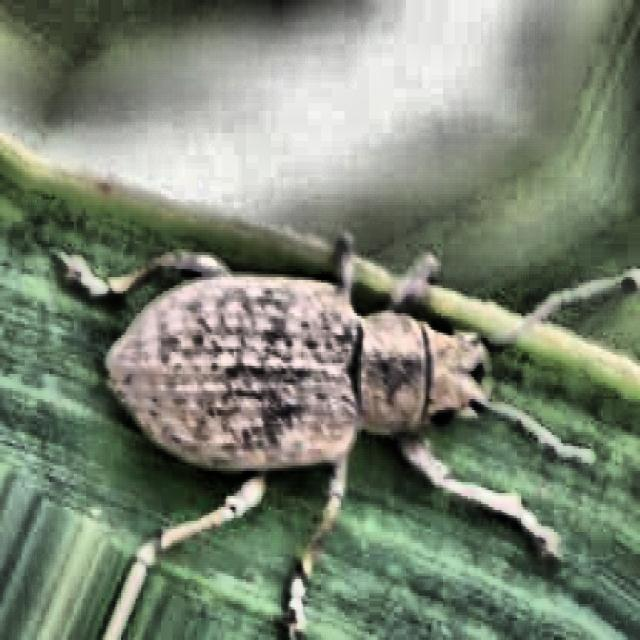Stink bug: (11, 160, 598, 598)
